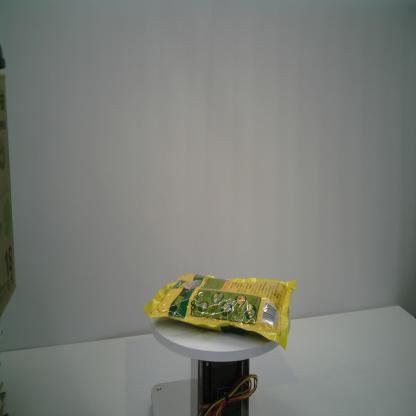Seasoner: (142, 272, 296, 350)
